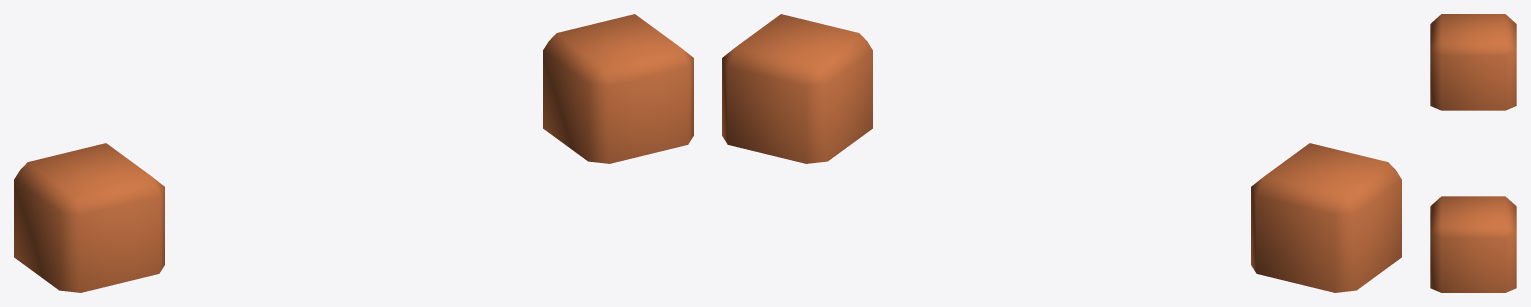
The model's file is ladder endcap.fbx.
3 views of the same model, side by side, from view 1: azimuth 30°, elevation 25°; view 2: azimuth 150°, elevation 25°; view 3: azimuth 270°, elevation 25° (orthographic). The views are drawn at different scales.
Parts seen in each view (by area): view 1: ladder endcap; view 2: ladder endcap; view 3: ladder endcap.
Boxes of the visible parts, x1,y1,x2,y2 form: ladder endcap: (14, 14, 693, 292); ladder endcap: (722, 14, 1401, 292); ladder endcap: (1430, 14, 1516, 292).
Size of the model in its own units: 64.63 by 8.94 by 10.78.
Materials: 1 (1 with a texture image).
